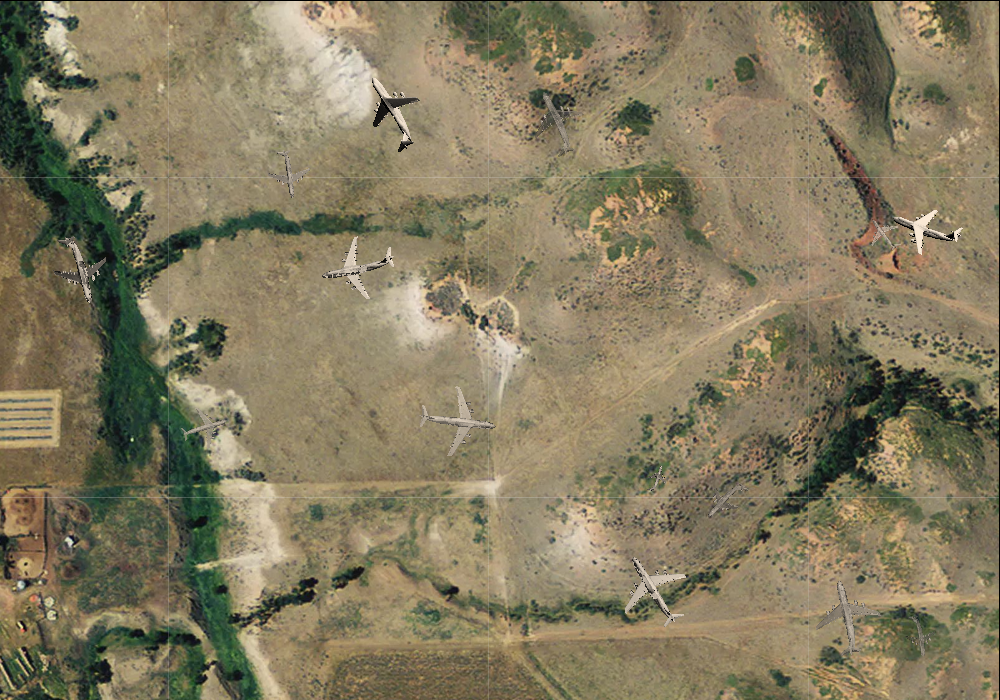plane: (602, 537, 706, 642), (340, 60, 441, 164), (802, 573, 889, 663), (513, 79, 598, 166), (314, 224, 401, 308), (883, 186, 971, 268), (414, 380, 500, 462), (38, 227, 117, 311), (695, 469, 757, 532), (175, 400, 233, 455), (261, 146, 314, 200), (859, 208, 910, 259), (897, 613, 940, 660), (640, 461, 672, 495)
